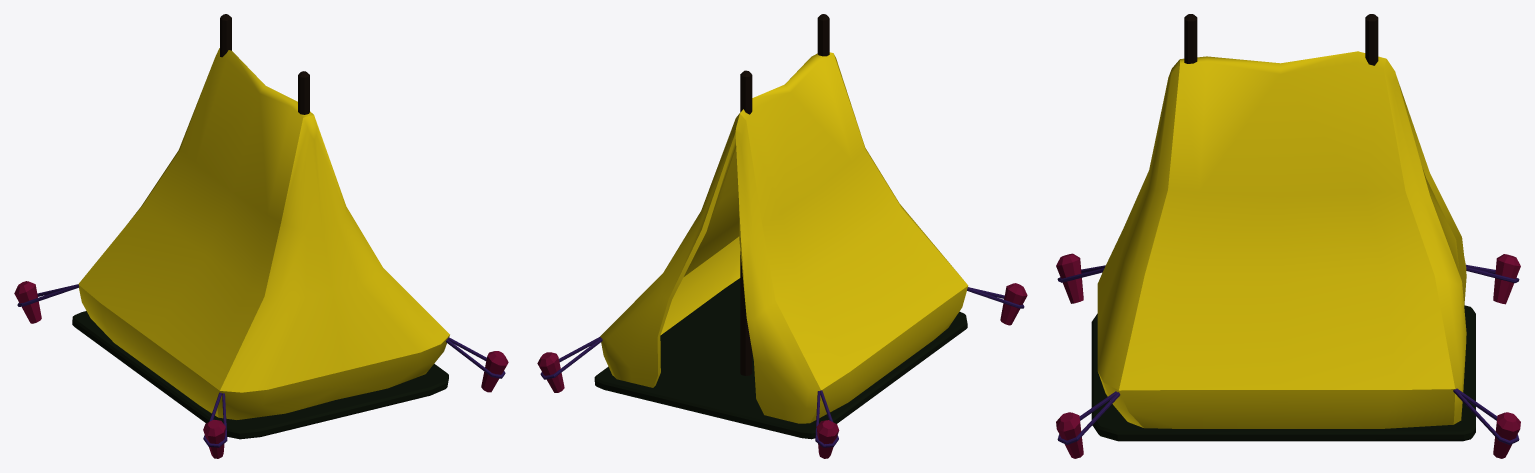
File: Tent.FBX
3 views of the same model, side by side, from view 1: azimuth 30°, elevation 25°; view 2: azimuth 150°, elevation 25°; view 3: azimuth 270°, elevation 25° (orthographic). The views are drawn at different scales.
Visible parts, largest first — view 1: Tent; view 2: Tent; view 3: Tent.
Part boxes in pixels (left/top/right/bottom): Tent: left=14, top=14, right=508, bottom=458; Tent: left=537, top=14, right=1027, bottom=458; Tent: left=1056, top=14, right=1520, bottom=458.
Size of the model in its own units: 978 by 1129 by 978.
